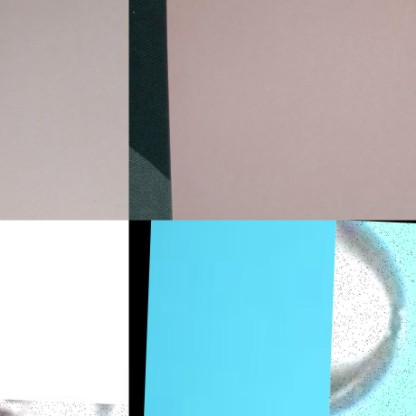ironball: (329, 220, 415, 415)
